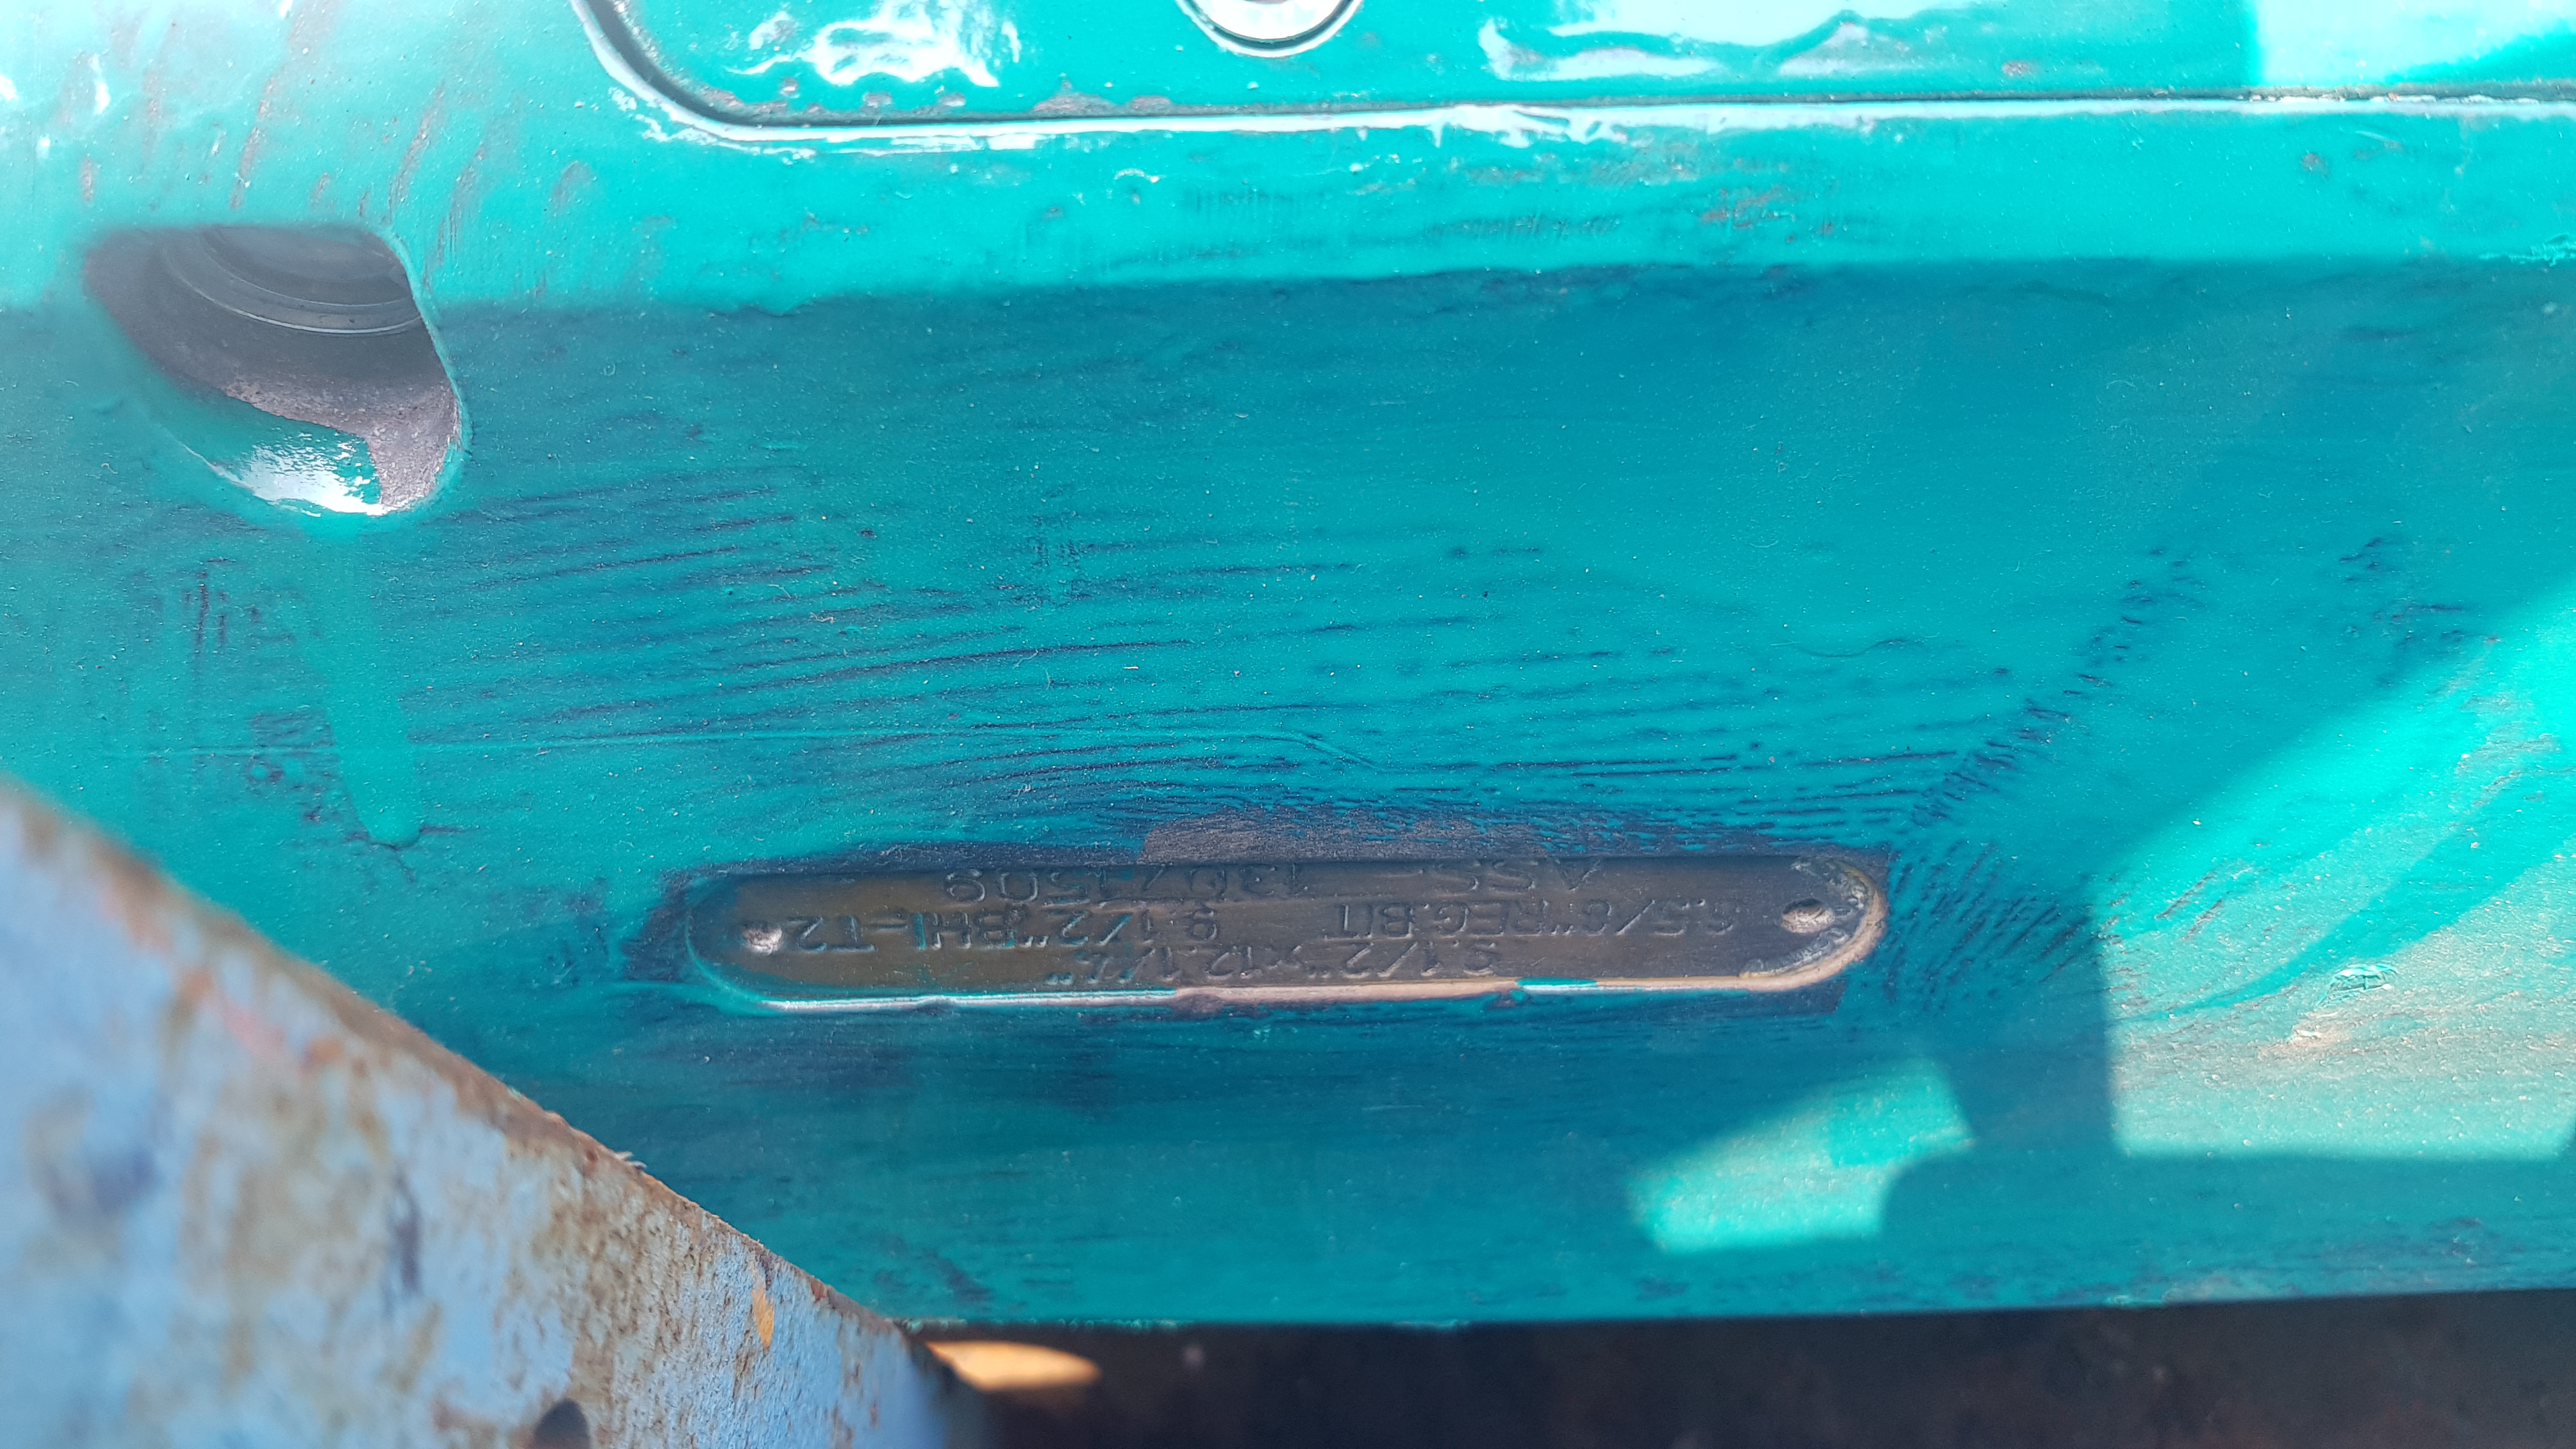character: (1546, 858, 1608, 893), (925, 909, 973, 952), (1431, 860, 1483, 899), (1488, 858, 1541, 895), (830, 913, 878, 954), (1042, 869, 1090, 909), (1375, 939, 1419, 982), (1612, 897, 1656, 938), (786, 915, 830, 954), (1460, 938, 1504, 977), (1467, 899, 1513, 936), (994, 869, 1042, 904), (1115, 947, 1157, 985), (1704, 897, 1746, 936), (1511, 897, 1552, 936), (1378, 902, 1417, 941), (1652, 899, 1691, 938), (973, 909, 1014, 947), (943, 869, 985, 904), (1237, 863, 1277, 899), (1187, 867, 1230, 901), (1074, 950, 1113, 985), (1582, 899, 1614, 939), (1435, 901, 1470, 936), (1201, 945, 1235, 982), (1339, 941, 1371, 980), (1185, 906, 1219, 941), (1263, 943, 1302, 971), (1095, 869, 1123, 902), (1136, 867, 1171, 893), (1139, 908, 1164, 945), (1238, 945, 1263, 982), (1284, 863, 1311, 897), (1159, 947, 1184, 982), (908, 909, 927, 952), (1421, 941, 1444, 977), (1371, 867, 1426, 881), (1339, 902, 1359, 938), (1046, 968, 1076, 989), (1362, 901, 1376, 939), (867, 922, 911, 934), (1019, 934, 1049, 950), (1552, 922, 1575, 938), (1306, 968, 1332, 978), (1695, 897, 1709, 909), (1449, 939, 1461, 948), (1189, 947, 1198, 954), (1421, 902, 1430, 909)
